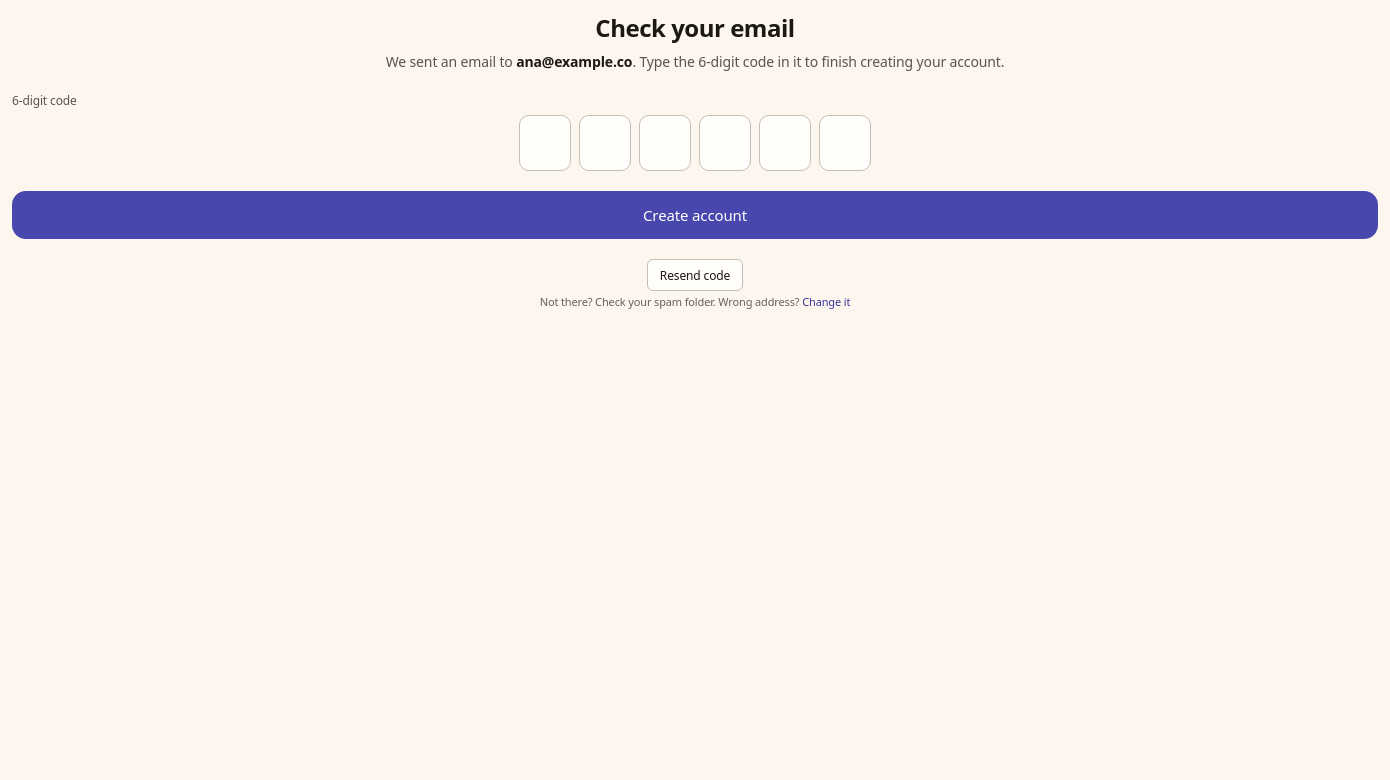
Test case: RegisterView › goes back to the form and says why when Resend finds the sign-up over
Click the 2nd button named "Resend code".
click(695, 275)  # box [647, 259, 743, 291]
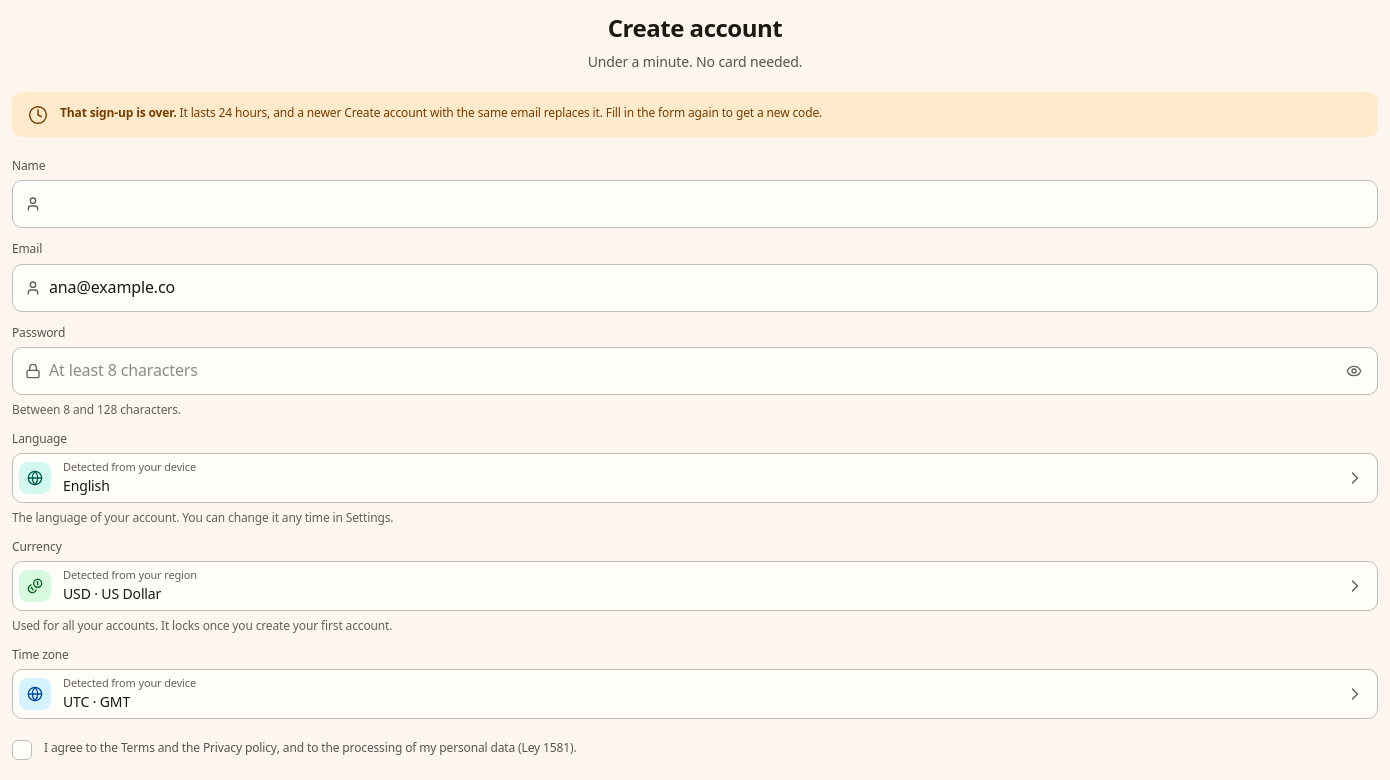
Check: the text "That sign-up is over." is shown, box [60, 104, 177, 121]
Check: the field labelled "Email" holds "ana@example.co", box [49, 276, 1365, 299]
